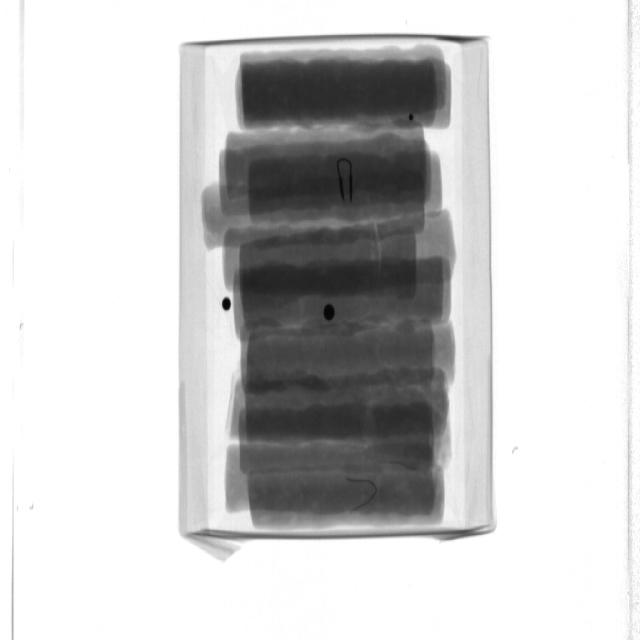ym: (348, 474, 377, 513), (338, 153, 355, 203), (324, 305, 335, 323), (222, 298, 233, 313), (409, 114, 415, 122)
